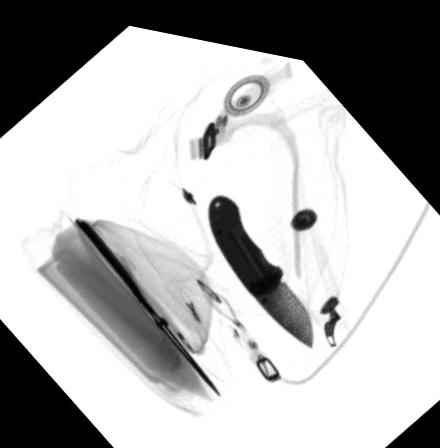Knife: (206, 184, 311, 336)
Scissors: (72, 213, 222, 390)
